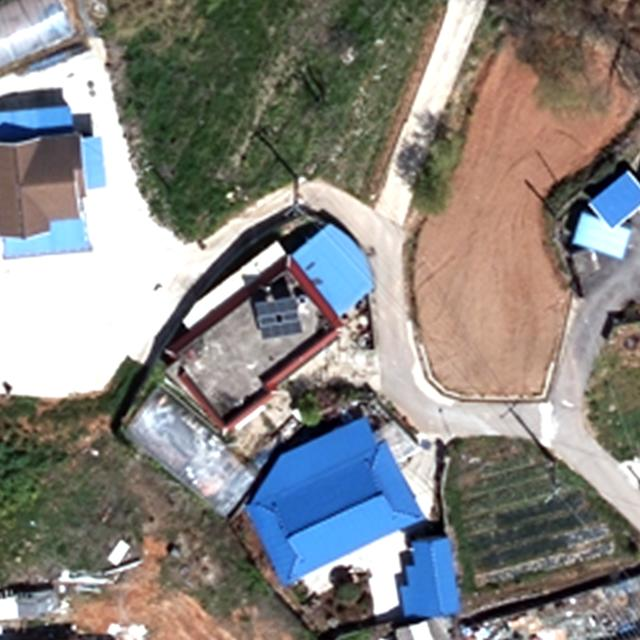solarpanel: (250, 298, 304, 340)
